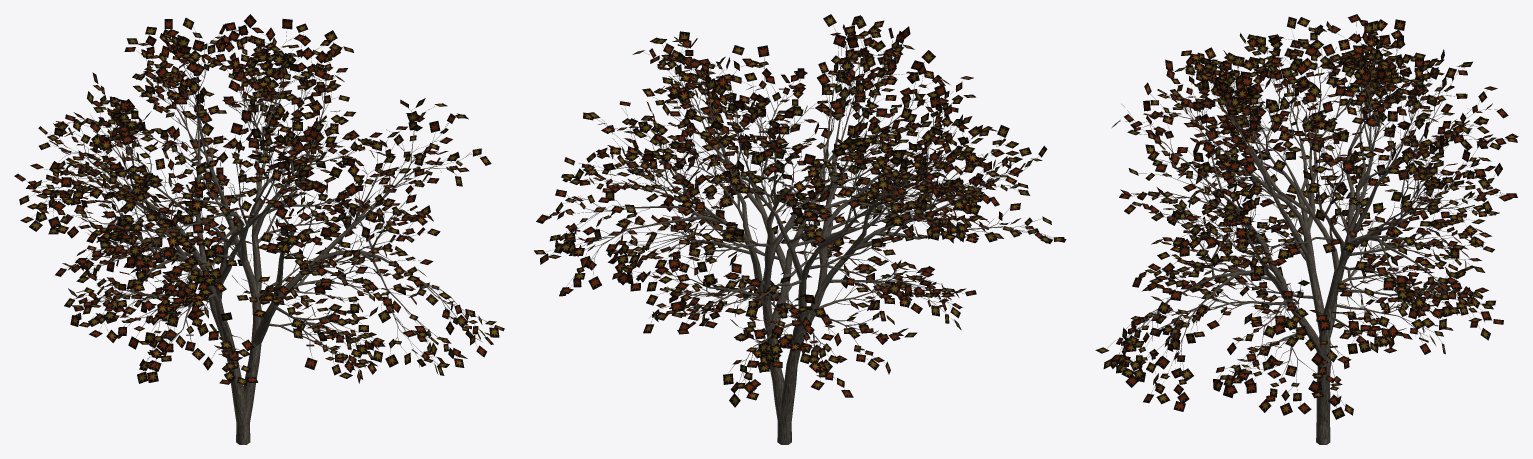
The model's file is SM_Maple.fbx.
3 views of the same model, side by side, from view 1: azimuth 30°, elevation 25°; view 2: azimuth 150°, elevation 25°; view 3: azimuth 270°, elevation 25° (orthographic). The views are drawn at different scales.
Visible parts, largest first — view 1: SM_Maple; view 2: SM_Maple; view 3: SM_Maple.
Boxes of the visible parts, left/top/right/bottom form: SM_Maple: left=14, top=14, right=504, bottom=444; SM_Maple: left=534, top=14, right=1066, bottom=444; SM_Maple: left=1095, top=14, right=1518, bottom=444.
Bounding box in the file's own units: 788 × 701 × 718.
Materials: 2 (2 with a texture image).
